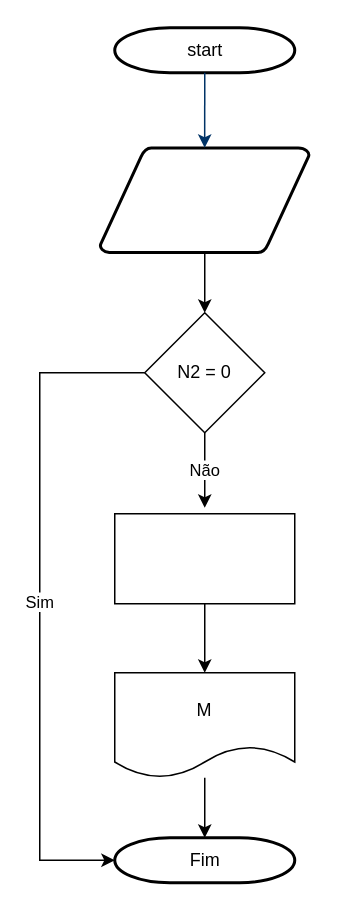
This 338x909 diagram has some shape labels left out. The shapes that lost their labels are listed below. From the top down, each one's centre as x and y in pixels, then its label:
point (204, 200): N1, N2
point (204, 558): M = N1 / N2
